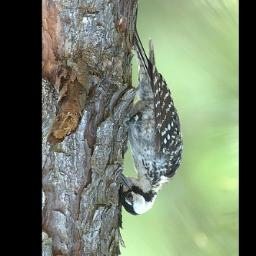Woodpecker: (119, 29, 185, 216)
